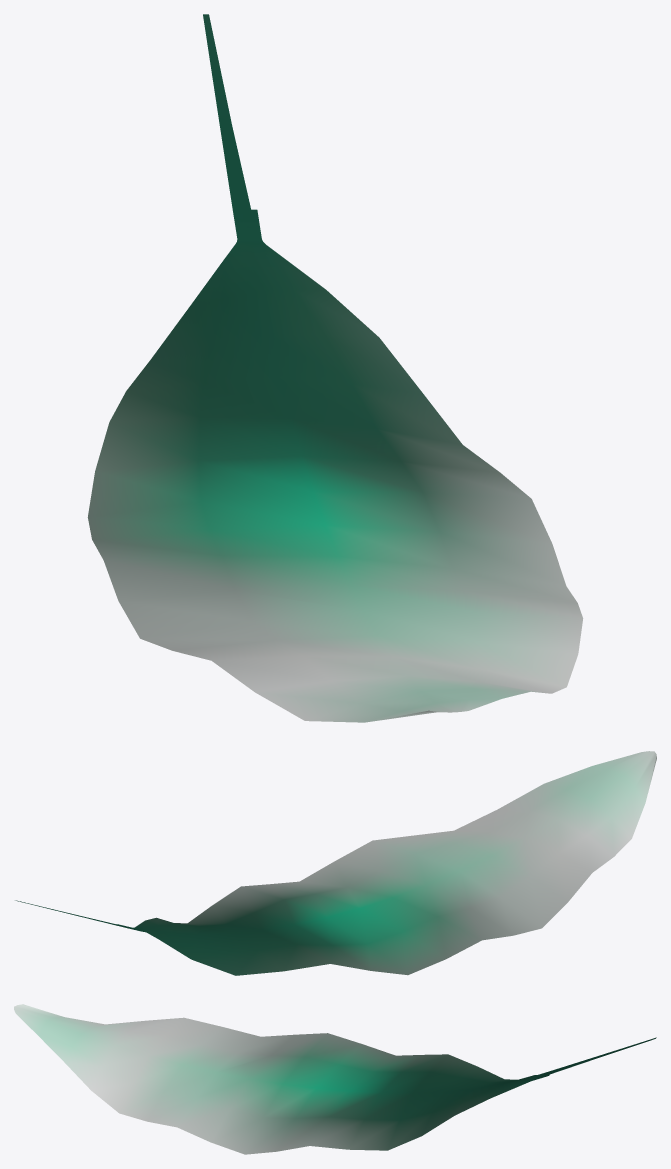
Rendered from leaf.glb.
The picture shows the model from 3 angles, top to bottom: view 1: azimuth 30°, elevation 25°; view 2: azimuth 150°, elevation 25°; view 3: azimuth 270°, elevation 25°; orthographic projection. The views are drawn at different scales.
Visible parts, largest first — view 1: leaf; view 2: leaf; view 3: leaf.
Part boxes in pixels (bbox=[...]): leaf: bbox=[87, 14, 583, 722]; leaf: bbox=[15, 751, 656, 975]; leaf: bbox=[14, 1004, 656, 1154].
Bounding box in the file's own units: 1.32 × 0.6942 × 3.13.
